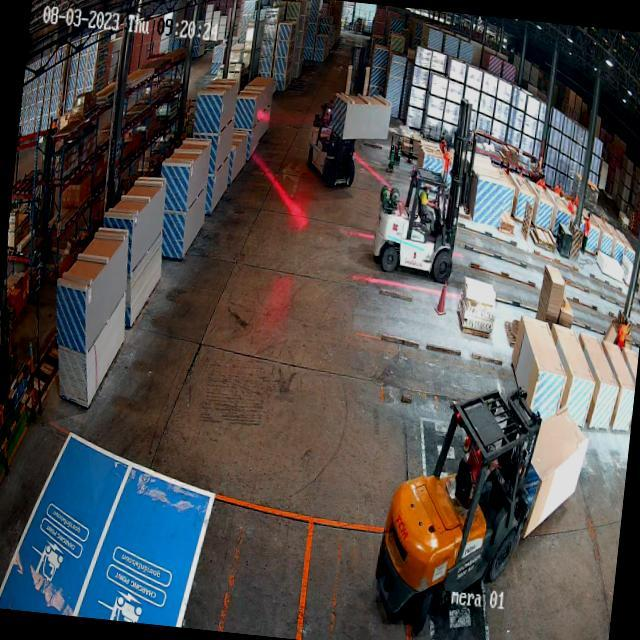driver: (416, 177, 442, 238)
forklift: (365, 365, 545, 640), (369, 157, 466, 289), (306, 95, 364, 196)
person: (618, 314, 628, 346)
